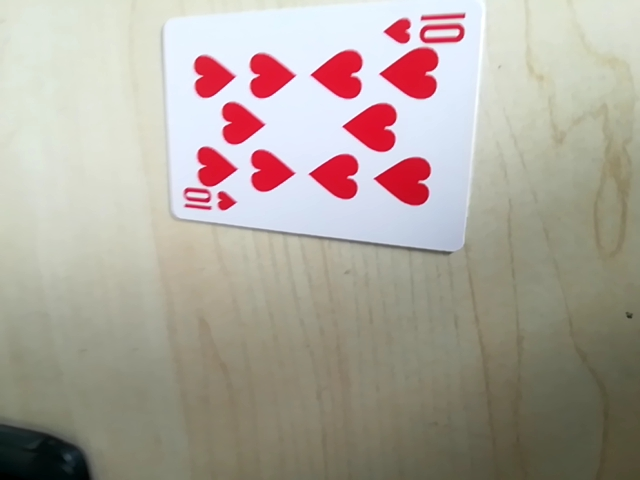hx 10: (385, 4, 471, 50), (177, 186, 242, 221)
